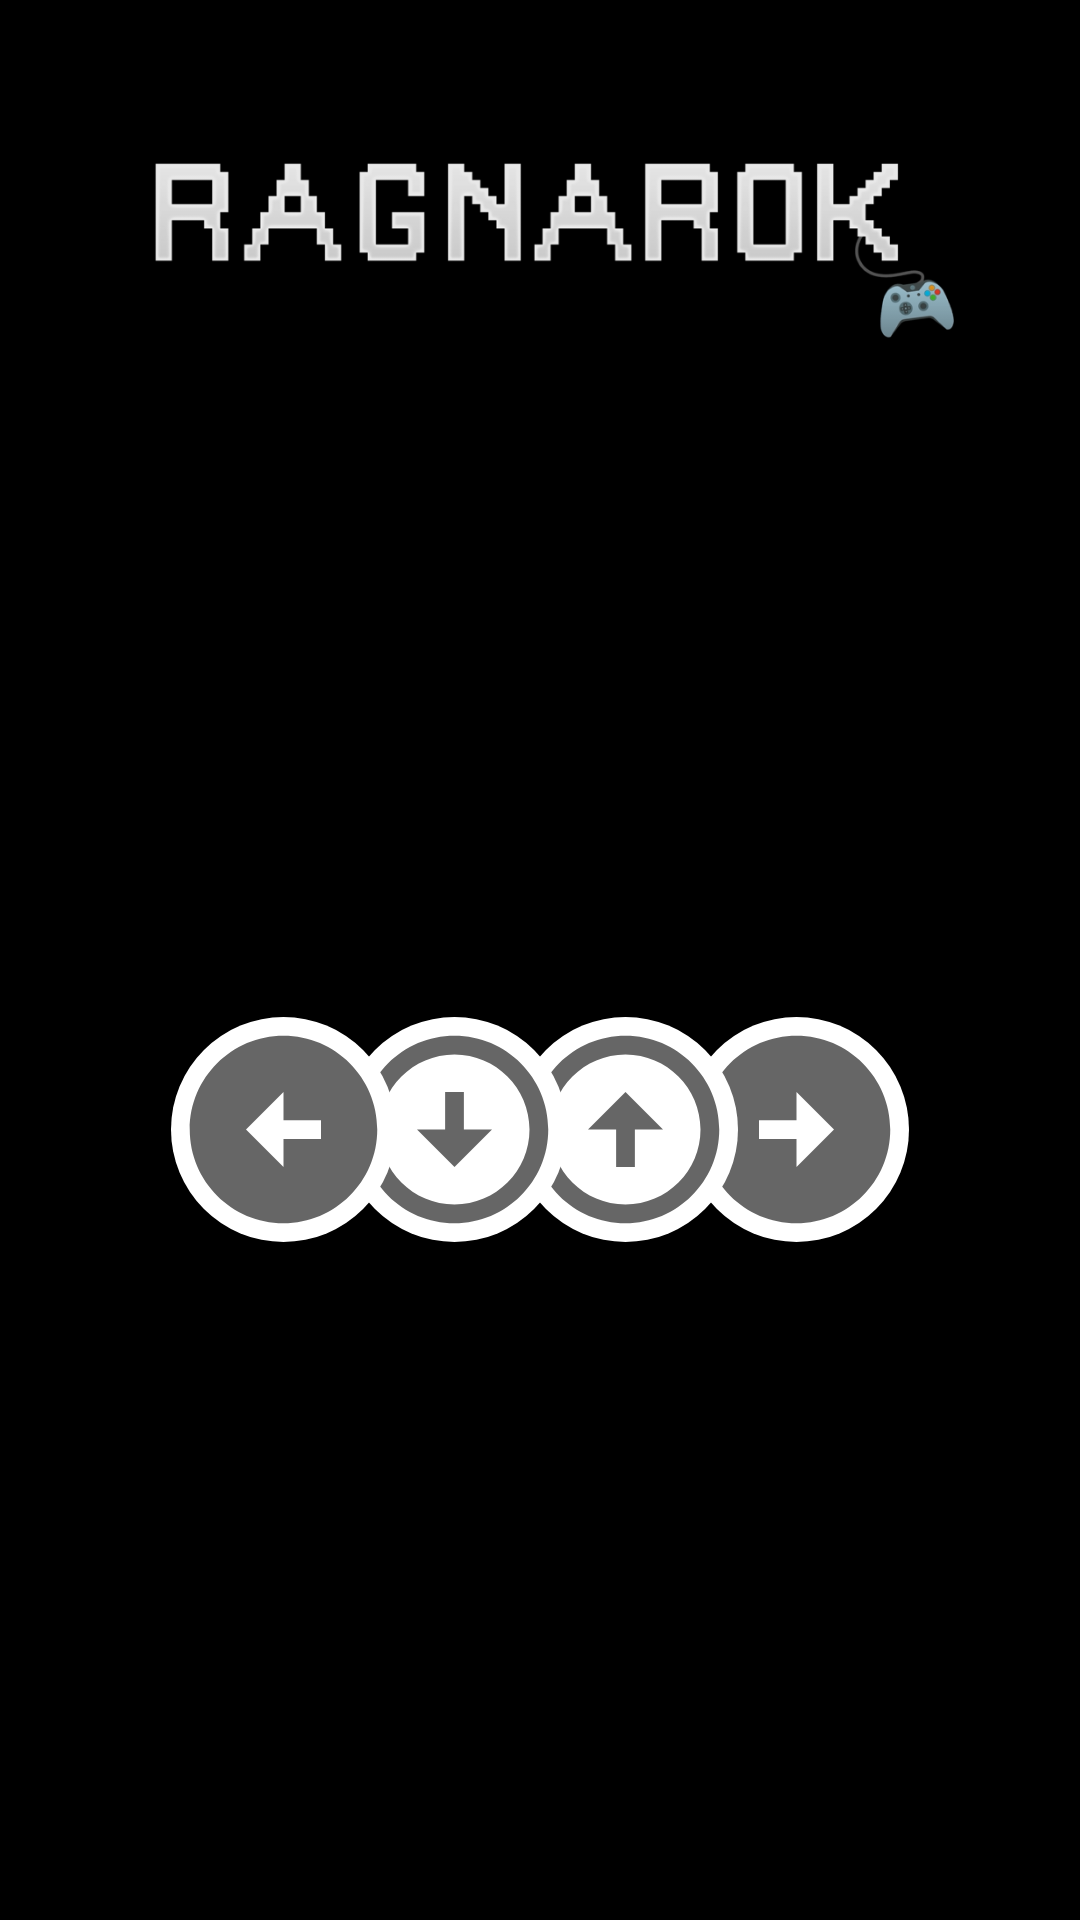

Icon click points for this 1080px x 1920px phone screenshot, format (x=x, y=y):
arrow game down: (x=454, y=1129)
arrow game left: (x=283, y=1129)
arrow game right: (x=796, y=1129)
arrow game up: (x=625, y=1129)
